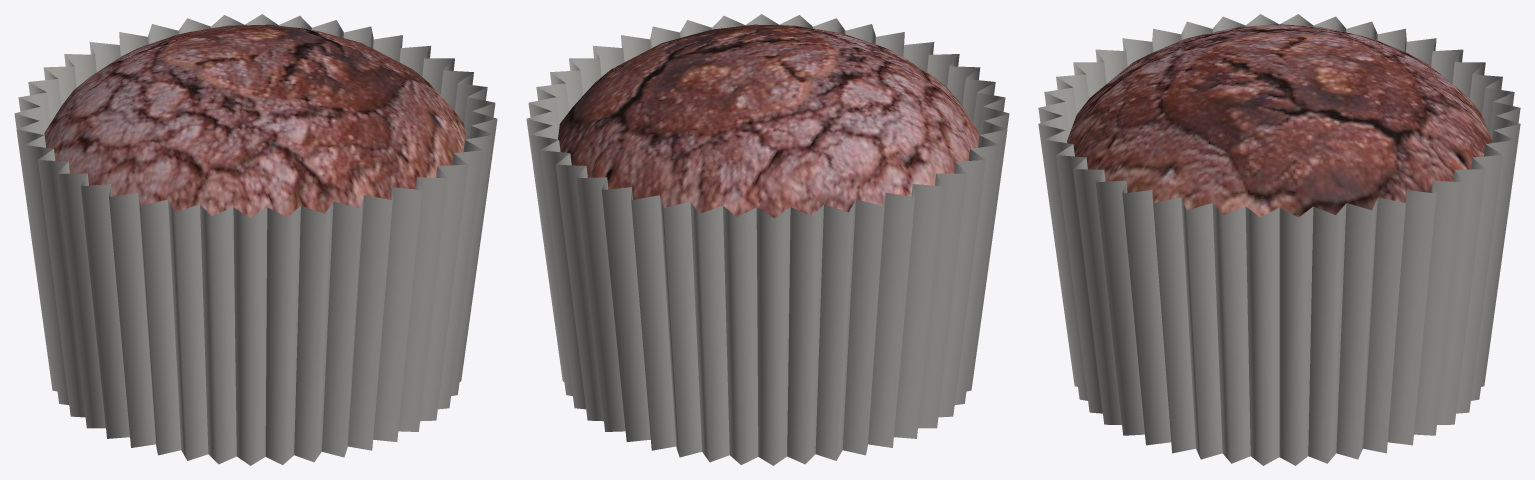
The model's file is muffin.fbx.
3 renders of one model, left to right at view 1: azimuth 30°, elevation 25°; view 2: azimuth 150°, elevation 25°; view 3: azimuth 270°, elevation 25°, orthographic.
Visible parts, largest first — view 1: pSphere2; view 2: pSphere2; view 3: pSphere2.
Boxes of the visible parts, bbox=[...] form: pSphere2: bbox=[14, 14, 497, 465]; pSphere2: bbox=[526, 14, 1009, 465]; pSphere2: bbox=[1038, 14, 1520, 465].
Size of the model in its own units: 1.65 by 1.22 by 1.65.
2 materials, 1 textured.
